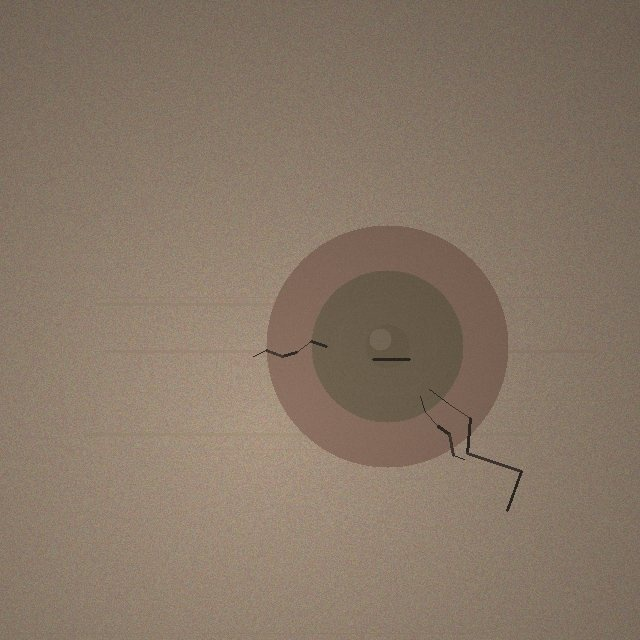crack: (266, 225, 508, 467)
